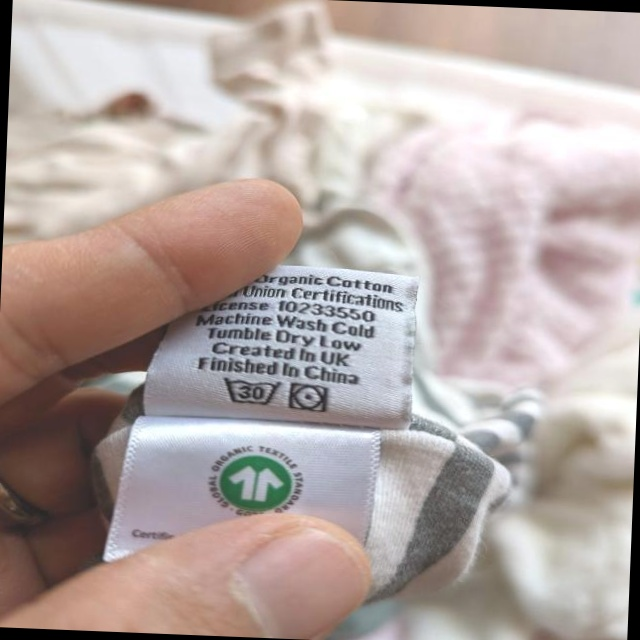30C: (217, 373, 284, 410)
tumble_dry_low: (286, 380, 332, 416)
